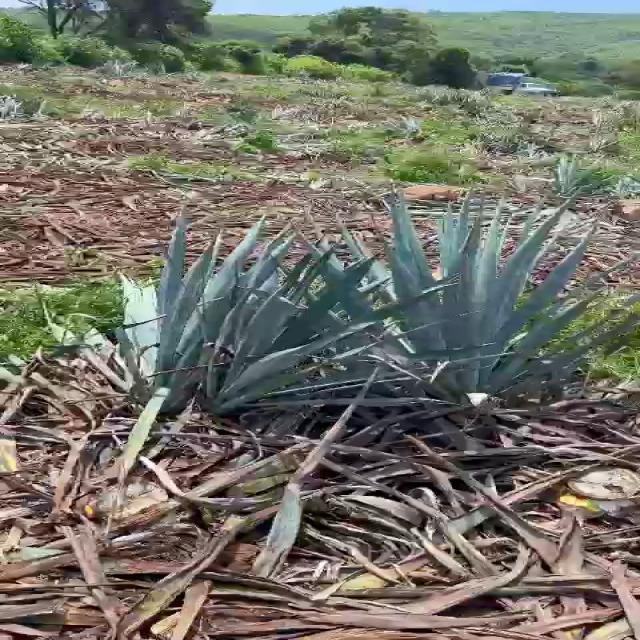agave: (338, 195, 598, 451), (91, 234, 347, 429)
